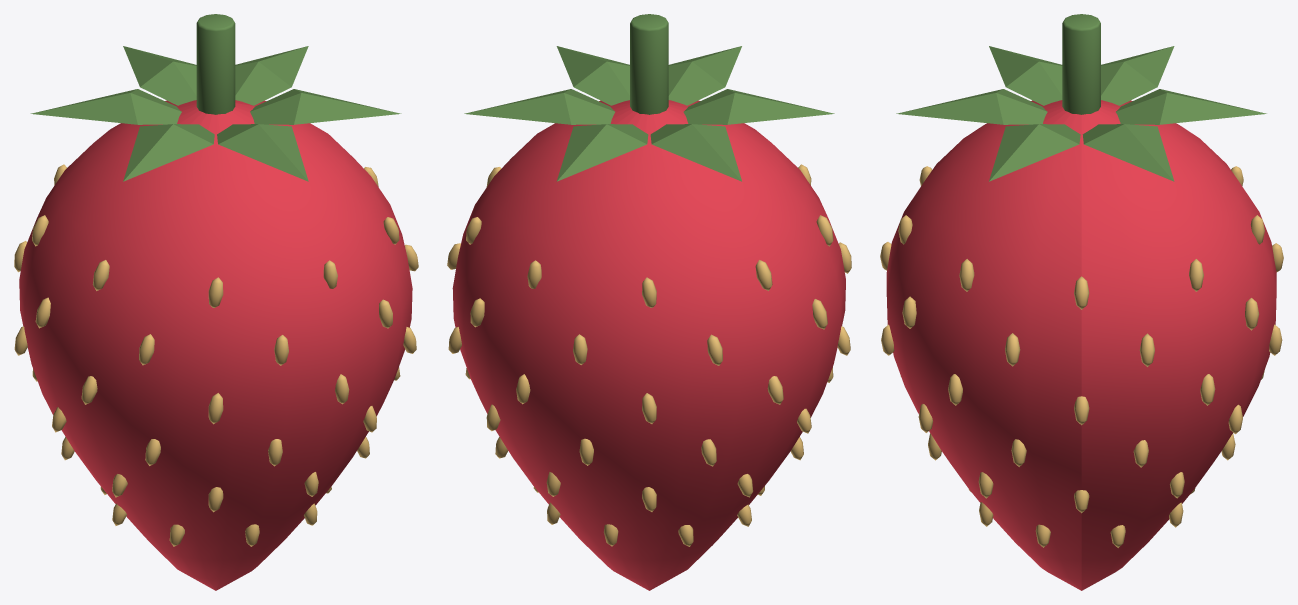
The model's file is hazard_strawberry.glb.
3 renders of one model, left to right at view 1: azimuth 30°, elevation 25°; view 2: azimuth 150°, elevation 25°; view 3: azimuth 270°, elevation 25°, orthographic.
Visible parts, largest first — view 1: strawberry_body, calyx, seed; view 2: strawberry_body, calyx, seed; view 3: strawberry_body, calyx, seed.
Part boxes in pixels (<box>): strawberry_body: <box>19,100,412,590</box>; calyx: <box>30,14,401,181</box>; seed: <box>14,164,418,546</box>; strawberry_body: <box>452,100,845,590</box>; calyx: <box>464,14,834,181</box>; seed: <box>447,164,851,546</box>; strawberry_body: <box>886,100,1276,590</box>; calyx: <box>896,14,1266,181</box>; seed: <box>880,166,1283,547</box>.
Bounding box in the file's own units: 0.5316 × 0.812 × 0.5215.
